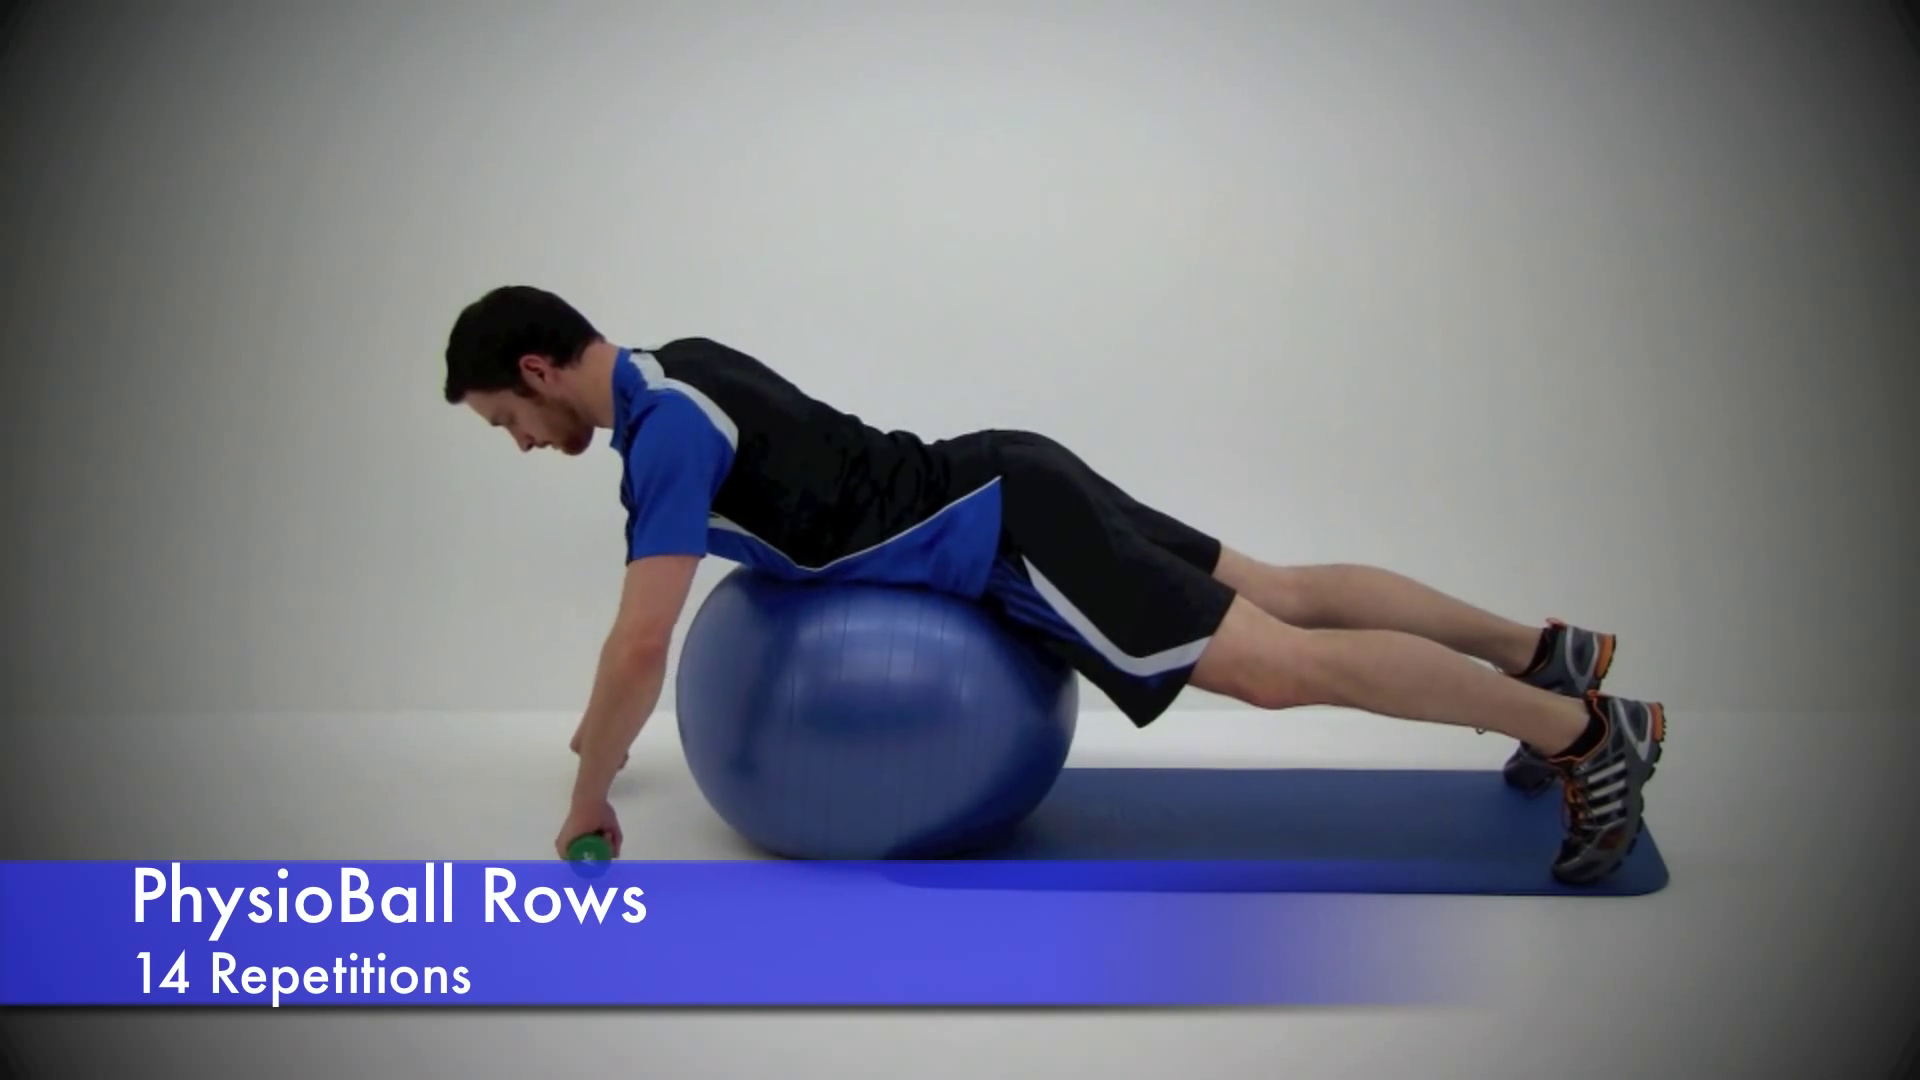yogaball: (662, 556, 1114, 873)
